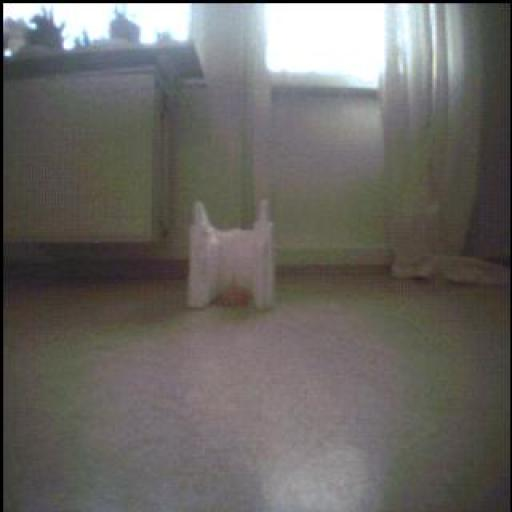Basket: (220, 271, 255, 314)
